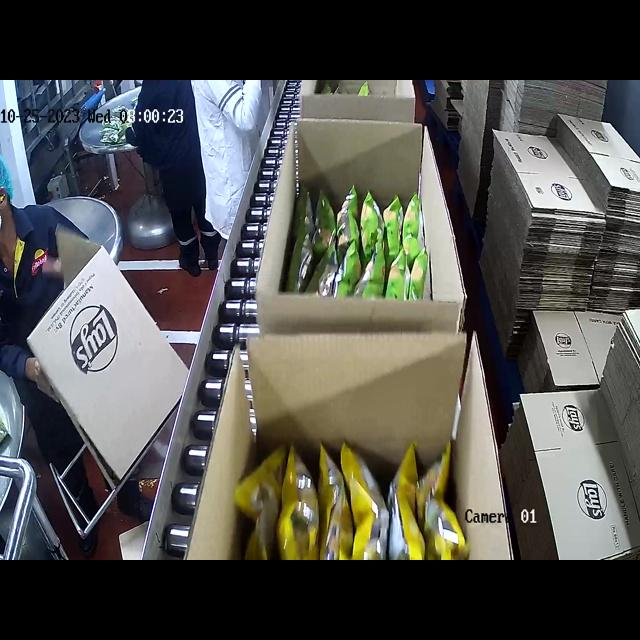salted: (256, 419, 462, 560)
yogurt: (300, 161, 426, 307)
